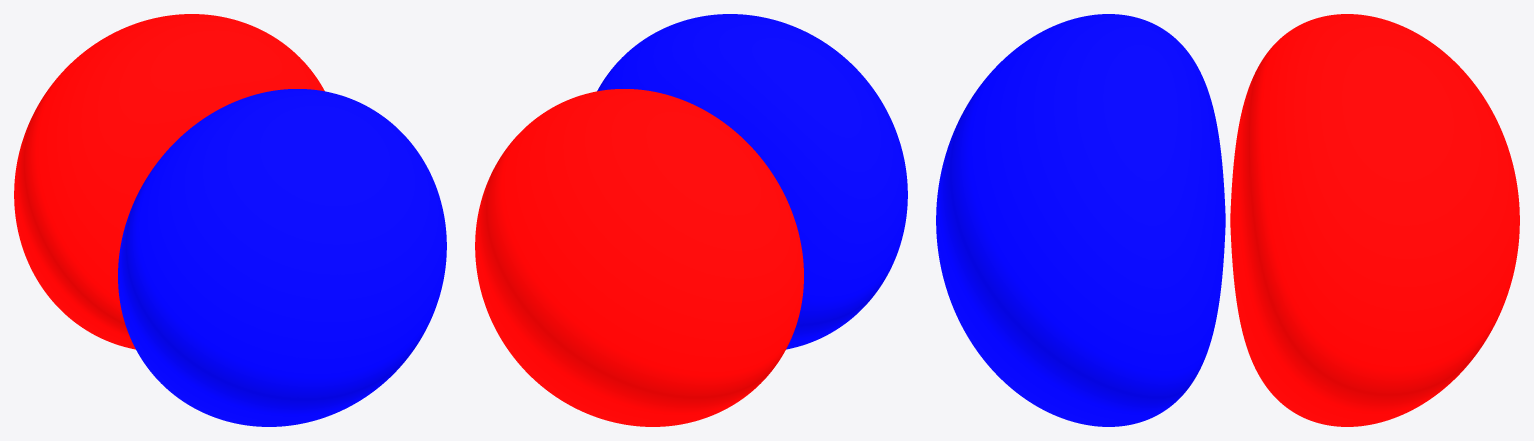
File: orb21-1_sign.fbx
The picture shows the model from 3 angles, left to right: view 1: azimuth 30°, elevation 25°; view 2: azimuth 150°, elevation 25°; view 3: azimuth 270°, elevation 25°; orthographic projection. The views are drawn at different scales.
Parts seen in each view (by area): view 1: orbital_n2_l1_m-1_real; view 2: orbital_n2_l1_m-1_real; view 3: orbital_n2_l1_m-1_real.
Part boxes in pixels (x1,y1,x2,y2): orbital_n2_l1_m-1_real: (14, 14, 446, 426); orbital_n2_l1_m-1_real: (475, 14, 907, 426); orbital_n2_l1_m-1_real: (936, 14, 1519, 426).
Size of the model in its own units: 1384 by 1384 by 1956.
